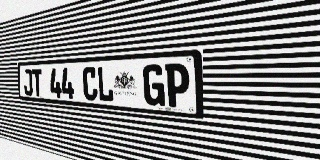4: (61, 67, 74, 99), (49, 68, 62, 98)
C: (82, 67, 98, 101)
G: (143, 64, 165, 106)
J: (23, 69, 33, 96)
L: (97, 66, 114, 102)
P: (165, 63, 190, 108)
T: (32, 69, 43, 97)
